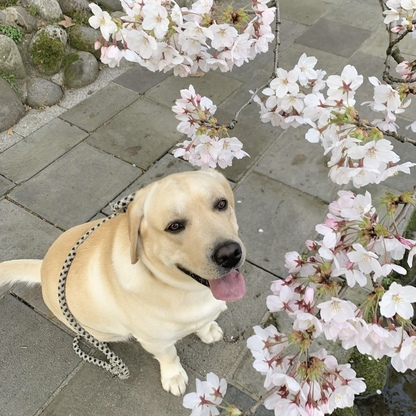labrado: (1, 166, 253, 401)
